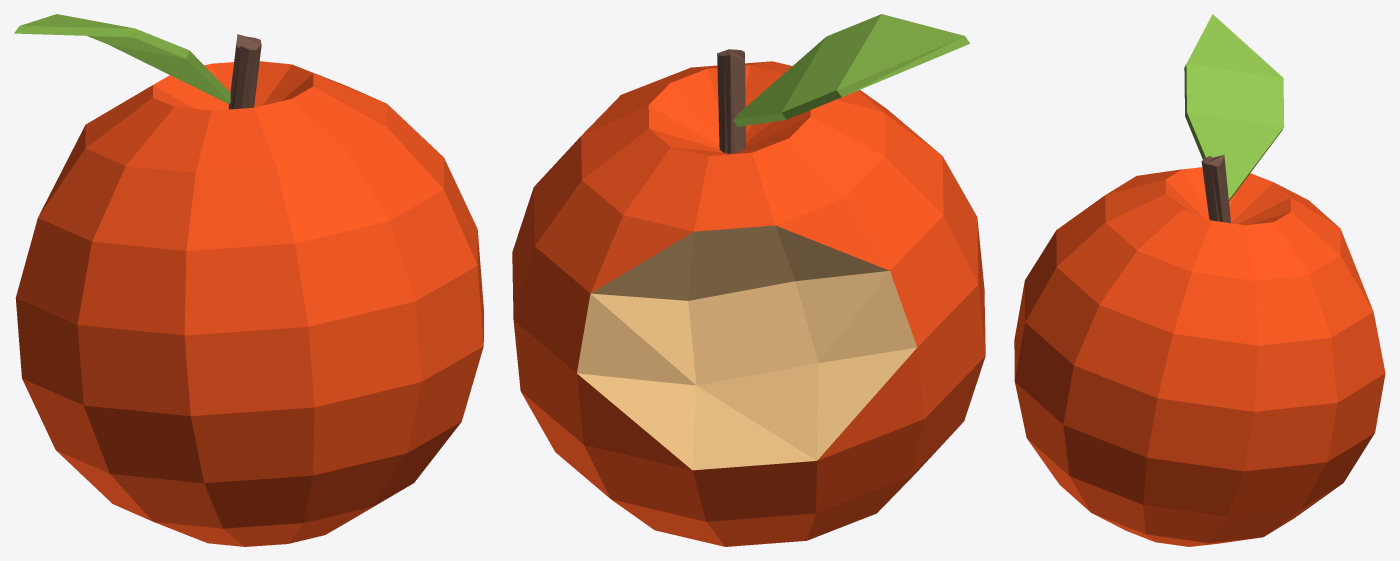
File: apple.glb
3 views of the same model, side by side, from view 1: azimuth 30°, elevation 25°; view 2: azimuth 150°, elevation 25°; view 3: azimuth 270°, elevation 25° (orthographic). The views are drawn at different scales.
Visible parts, largest first — view 1: group363168450, group1801899385; view 2: group363168450, group1801899385; view 3: group363168450, group1801899385.
Part boxes in pixels (box(x1,y1,x2,y2)): group363168450: box(15, 34, 483, 546); group1801899385: box(14, 14, 230, 103); group363168450: box(512, 49, 985, 546); group1801899385: box(733, 14, 969, 126); group363168450: box(1014, 155, 1385, 546); group1801899385: box(1184, 14, 1284, 200).
Size of the model in its own units: 0.3574 by 0.4321 by 0.34.
